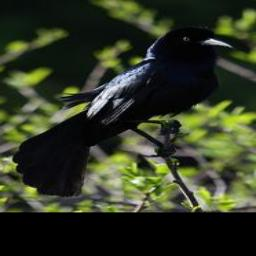Crow: (14, 24, 235, 195)
